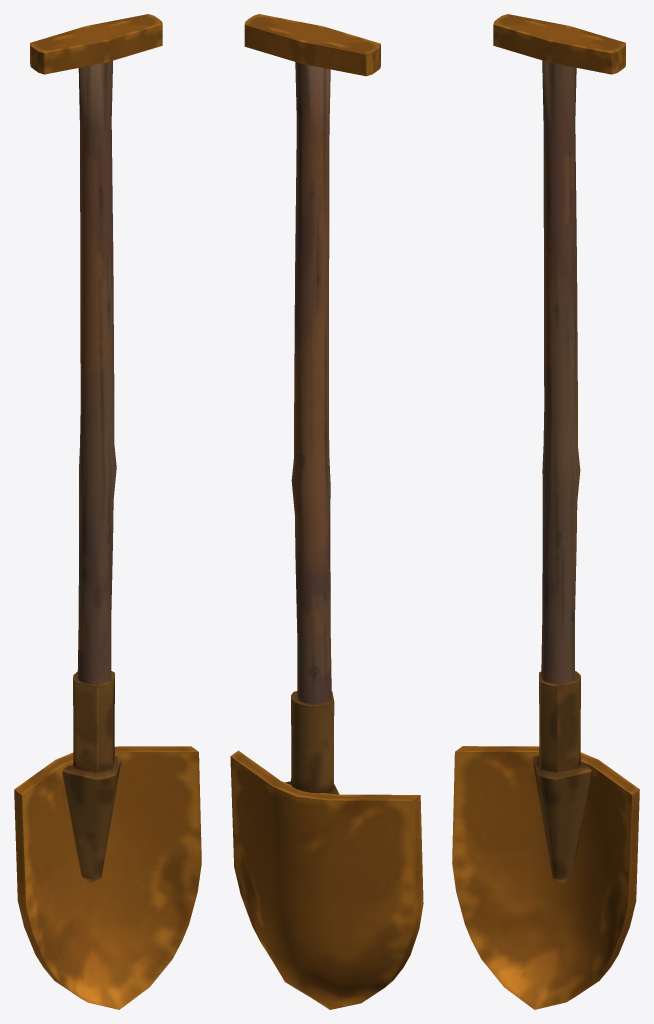
Rendered from Shovel_Bronze.gltf.
The picture shows the model from 3 angles, left to right: view 1: azimuth 30°, elevation 25°; view 2: azimuth 150°, elevation 25°; view 3: azimuth 330°, elevation 25°; orthographic projection. The views are drawn at different scales.
Visible parts, largest first — view 1: Shovel_Bronze; view 2: Shovel_Bronze; view 3: Shovel_Bronze.
Boxes of the visible parts, left/top/right/bottom form: Shovel_Bronze: left=14, top=14, right=201, bottom=1009; Shovel_Bronze: left=230, top=14, right=423, bottom=1009; Shovel_Bronze: left=452, top=14, right=639, bottom=1009.
Size of the model in its own units: 0.2871 by 1.49 by 0.1145.
1 material, 1 textured.
